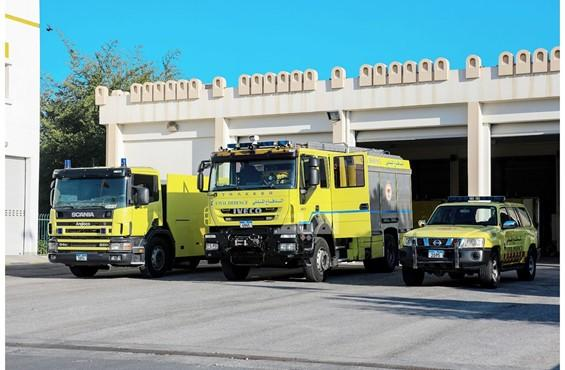firetruck_off: (205, 141, 411, 274), (51, 159, 202, 276), (400, 192, 537, 286)
